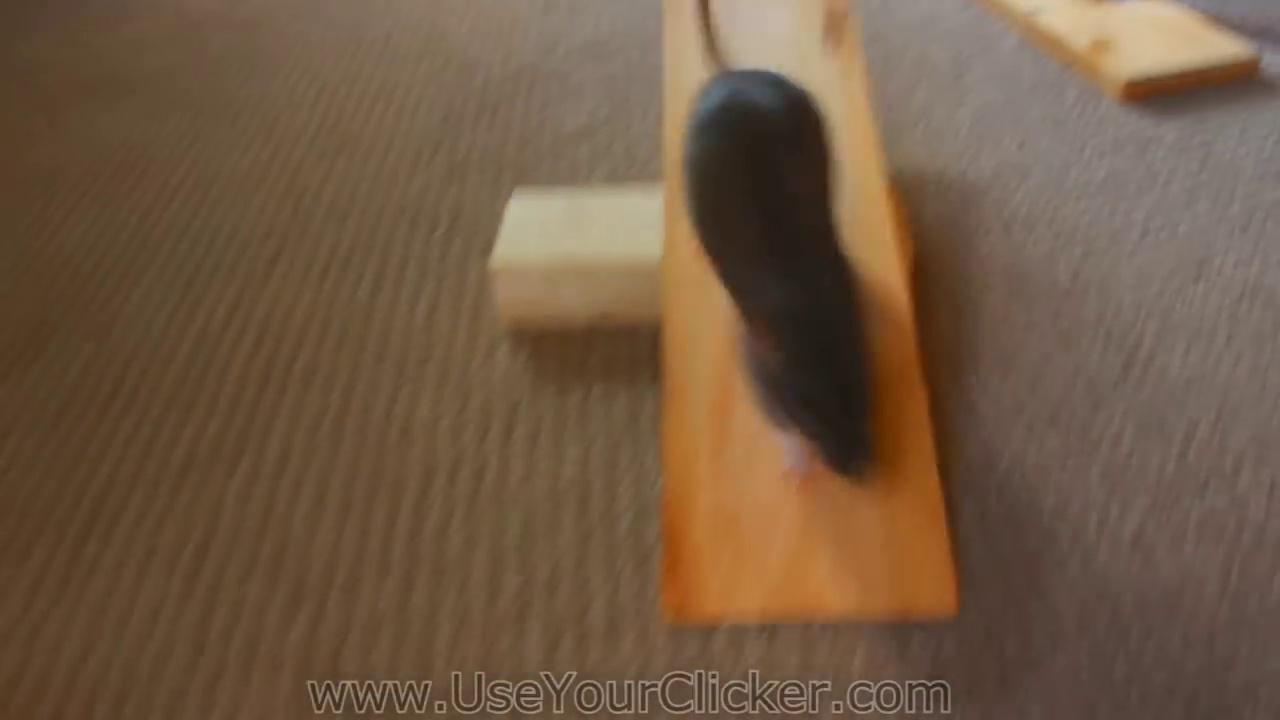rat: (677, 0, 878, 486)
